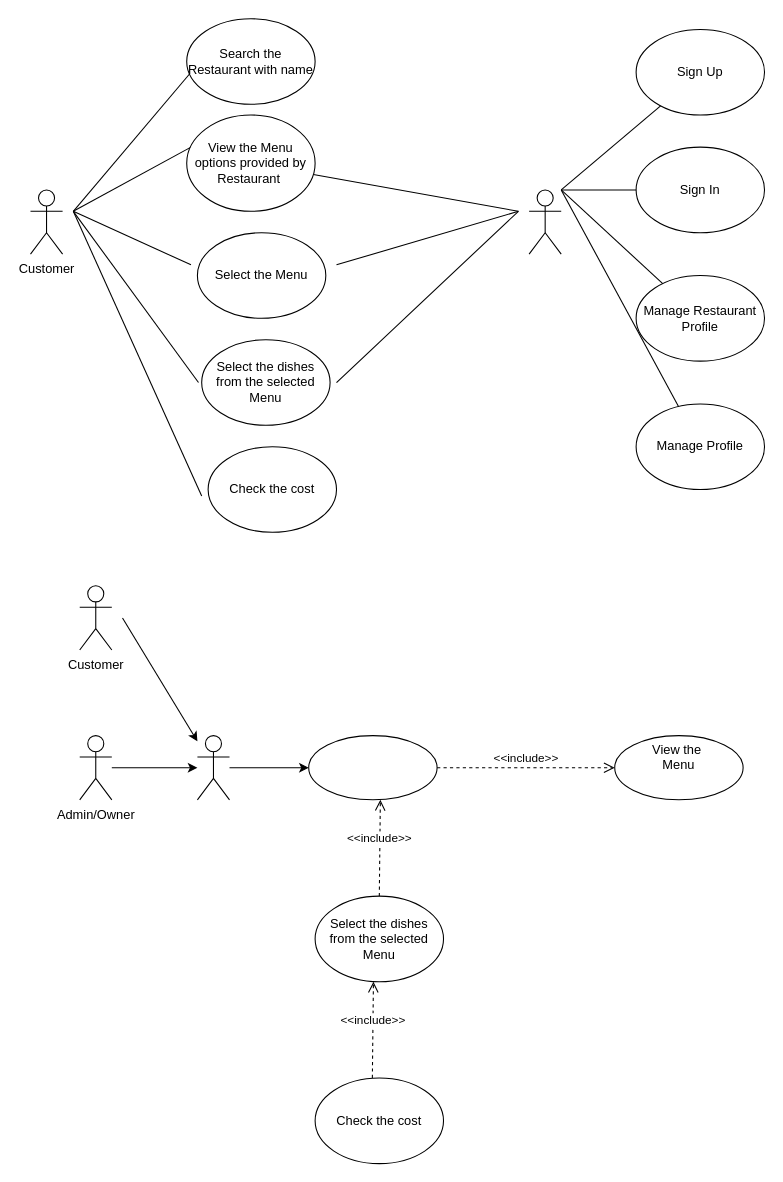
The diagram is 783 pixels wide and 1182 high, and some of its shapes have lost their labels. Here are the shapes that lost their labels. From the top down, the centre of each, then its label:
point (544, 221): Restaurant Owner/Admin
point (213, 767): User
point (372, 767): Selecting the menu
